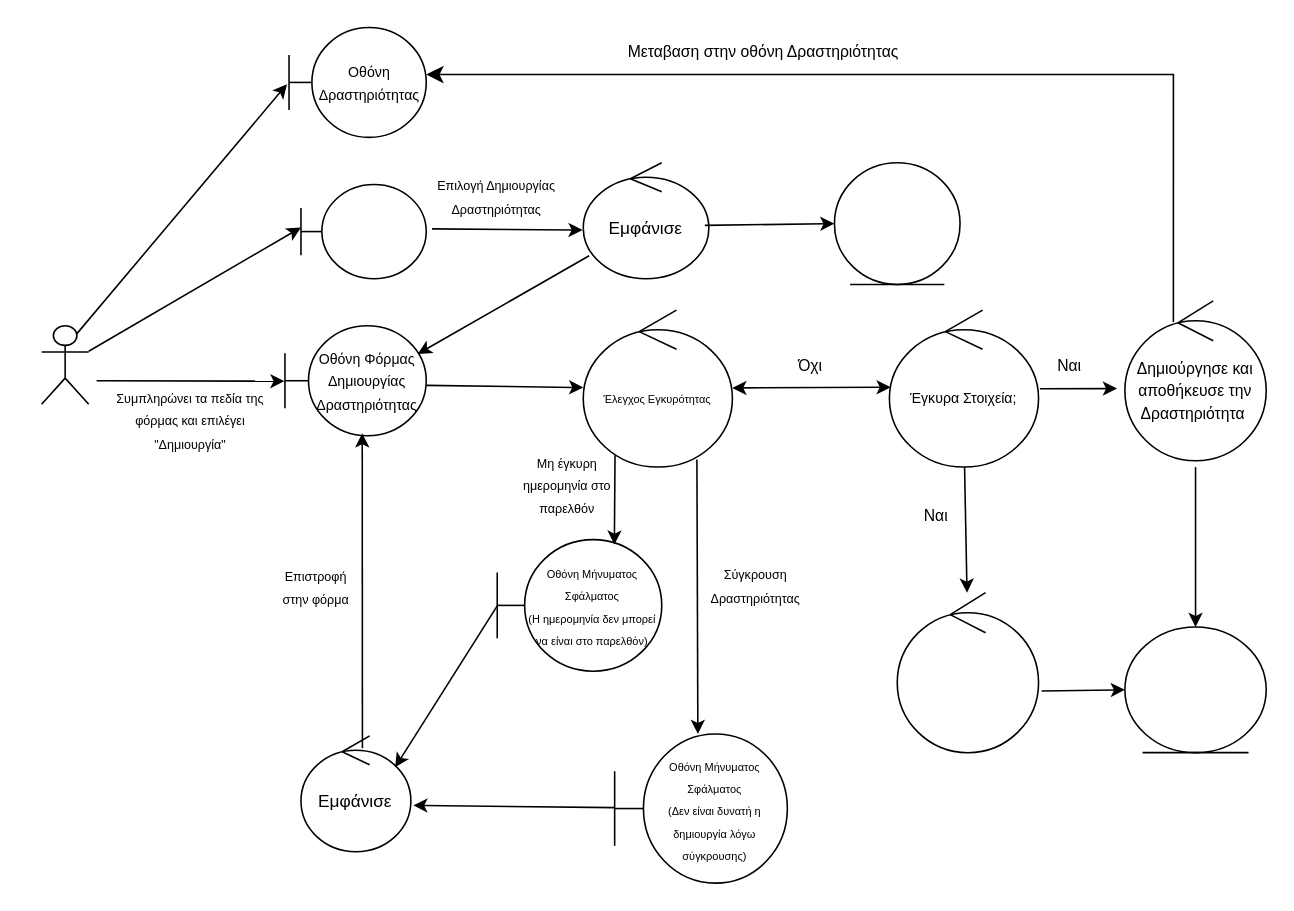
Some shapes in this 1294 by 911 pixel diagram are drawn without their labels. The shapes that lost their labels are listed below. From the top down, each one's centre as x and y in pixels, then its label:
the point at 362,231: Οθόνη Κεντρικού Μενού
the point at 896,222: Πεδία Φόρμας
the point at 64,364: Φοιτητής
the point at 967,672: Καταχώρησε τον χρήστη ως Διοργανωτή
the point at 1194,689: Βάση Δεδομένων
